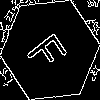F: (25, 25, 75, 76)
